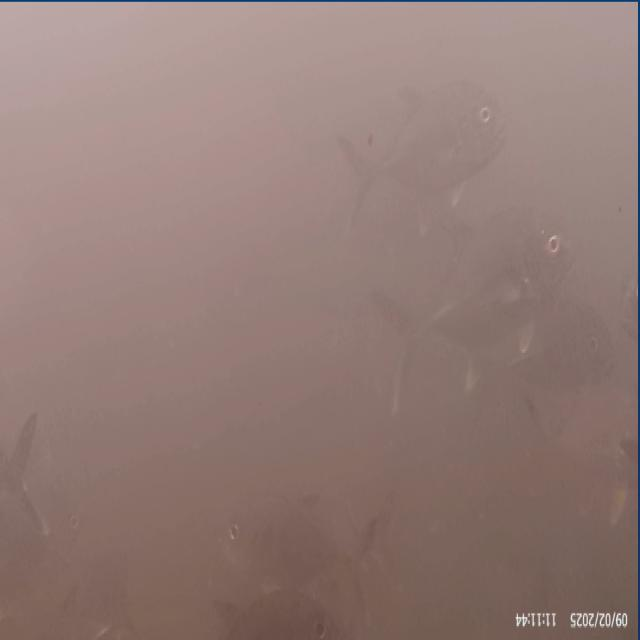ikan: (370, 225, 577, 426), (335, 75, 508, 246), (212, 486, 398, 636), (0, 408, 50, 542)
